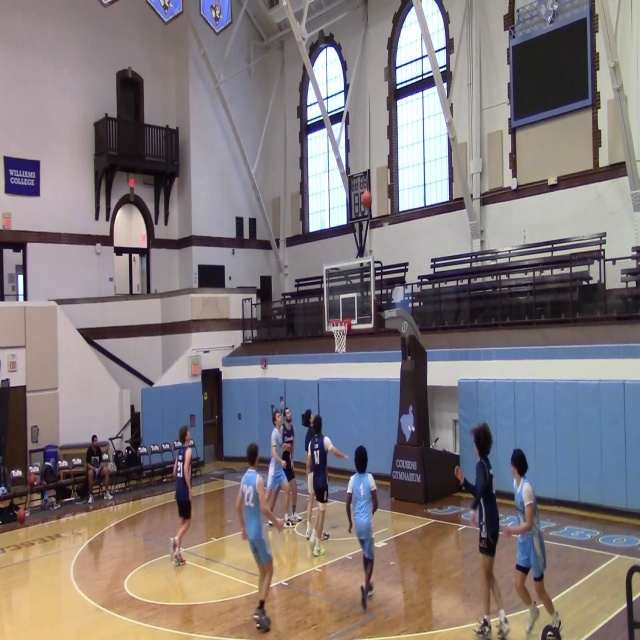Basketball: (361, 191, 372, 208)
